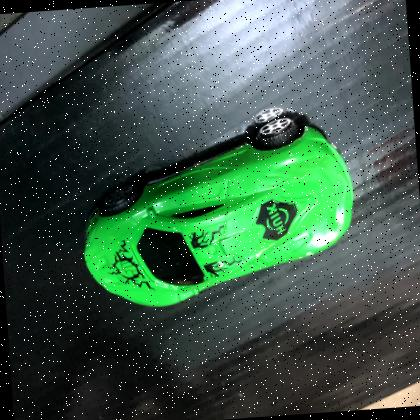Car: (82, 117, 355, 307)
